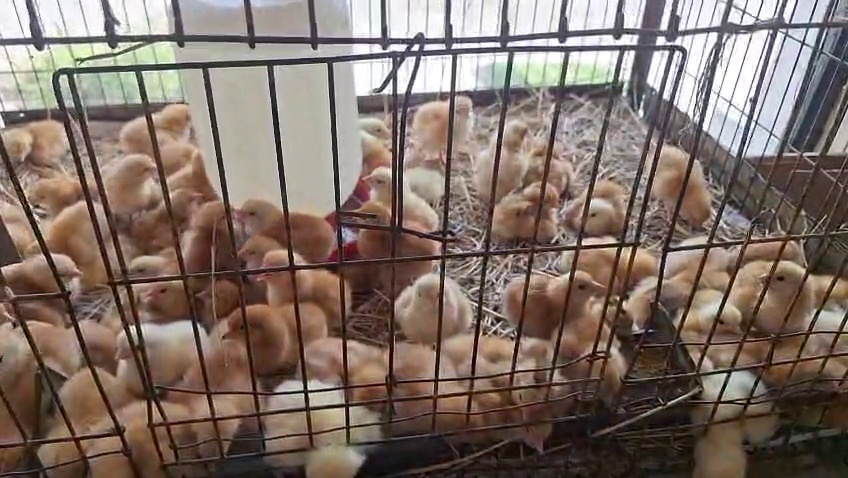Pollo: (264, 367, 398, 478), (178, 337, 276, 462), (683, 356, 782, 478), (40, 362, 142, 477), (112, 309, 221, 396), (402, 331, 486, 441), (229, 284, 334, 371), (257, 245, 361, 332), (20, 279, 135, 356), (106, 391, 205, 478), (310, 316, 409, 403), (474, 316, 572, 403), (537, 311, 635, 398), (346, 199, 450, 277), (498, 259, 605, 333), (632, 140, 721, 228), (233, 190, 350, 253), (392, 264, 481, 343), (741, 248, 819, 335), (404, 84, 480, 171), (99, 130, 178, 213), (475, 104, 550, 191), (0, 325, 51, 451), (29, 194, 123, 262), (480, 391, 578, 451), (356, 109, 445, 174), (484, 174, 563, 247), (559, 231, 663, 283), (183, 188, 257, 261), (680, 284, 761, 344), (668, 225, 751, 282), (8, 236, 101, 286), (558, 176, 633, 236), (776, 336, 848, 398), (19, 145, 93, 203), (111, 95, 204, 141), (146, 176, 206, 245), (608, 281, 681, 337), (364, 161, 453, 206), (137, 261, 208, 316), (193, 272, 261, 327), (0, 115, 68, 168), (239, 222, 294, 285), (518, 137, 573, 189), (161, 124, 211, 176), (186, 146, 236, 197), (353, 94, 402, 143), (126, 248, 189, 280)
